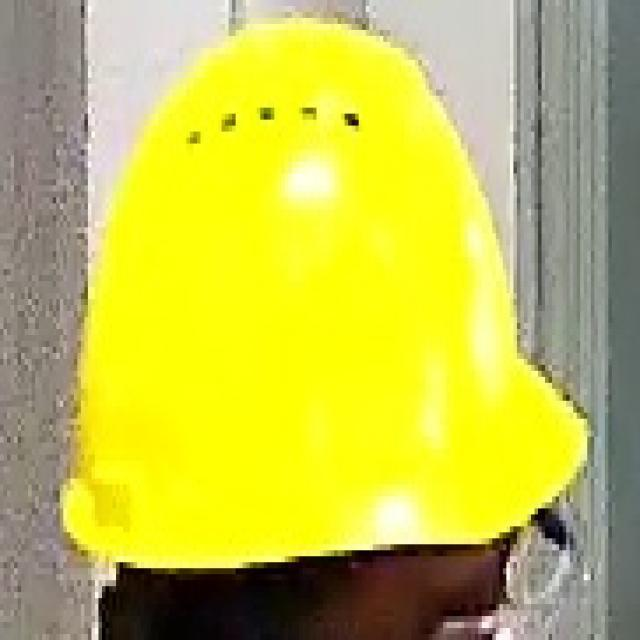yellow helmet: (61, 19, 601, 559)
